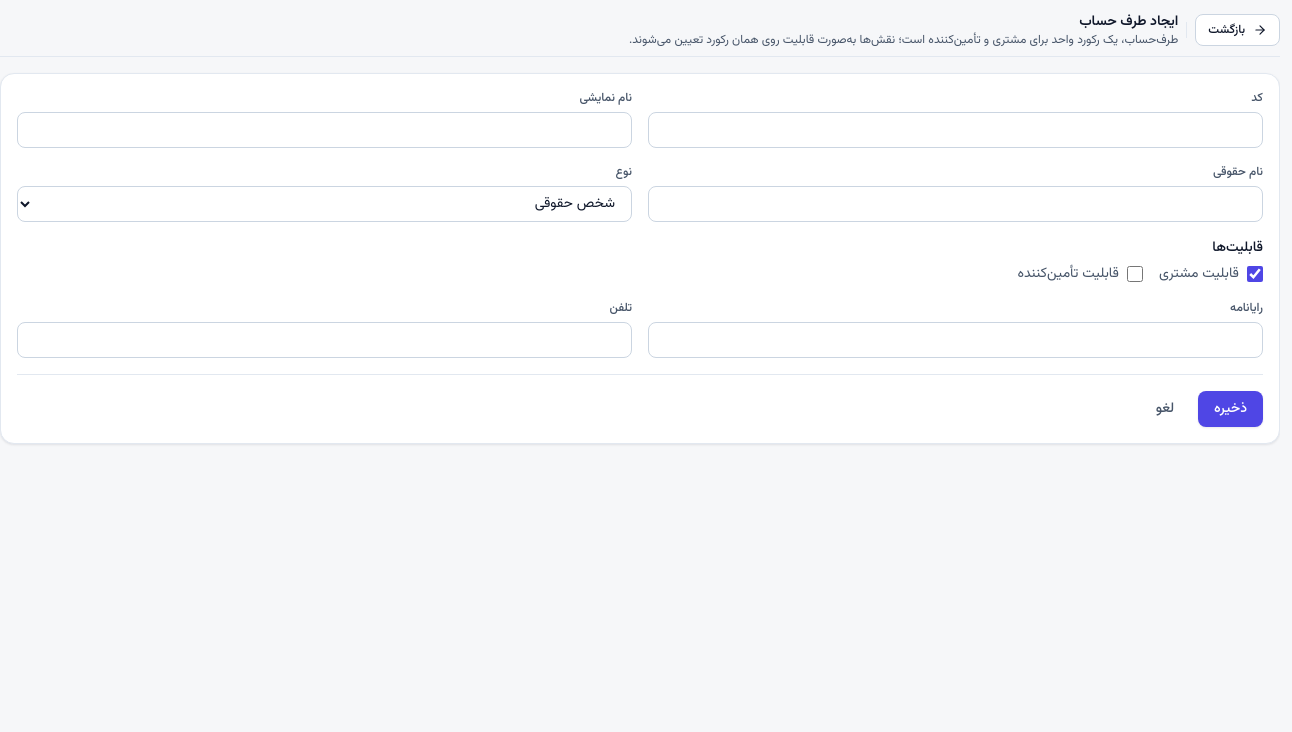
Test: party form › puts a server validation issue on its own control and keeps the summary
This screenshot has width=1292, height=732.
Type "PT-09" into the field labelled "کد" at (956, 130), box [648, 112, 1263, 148]
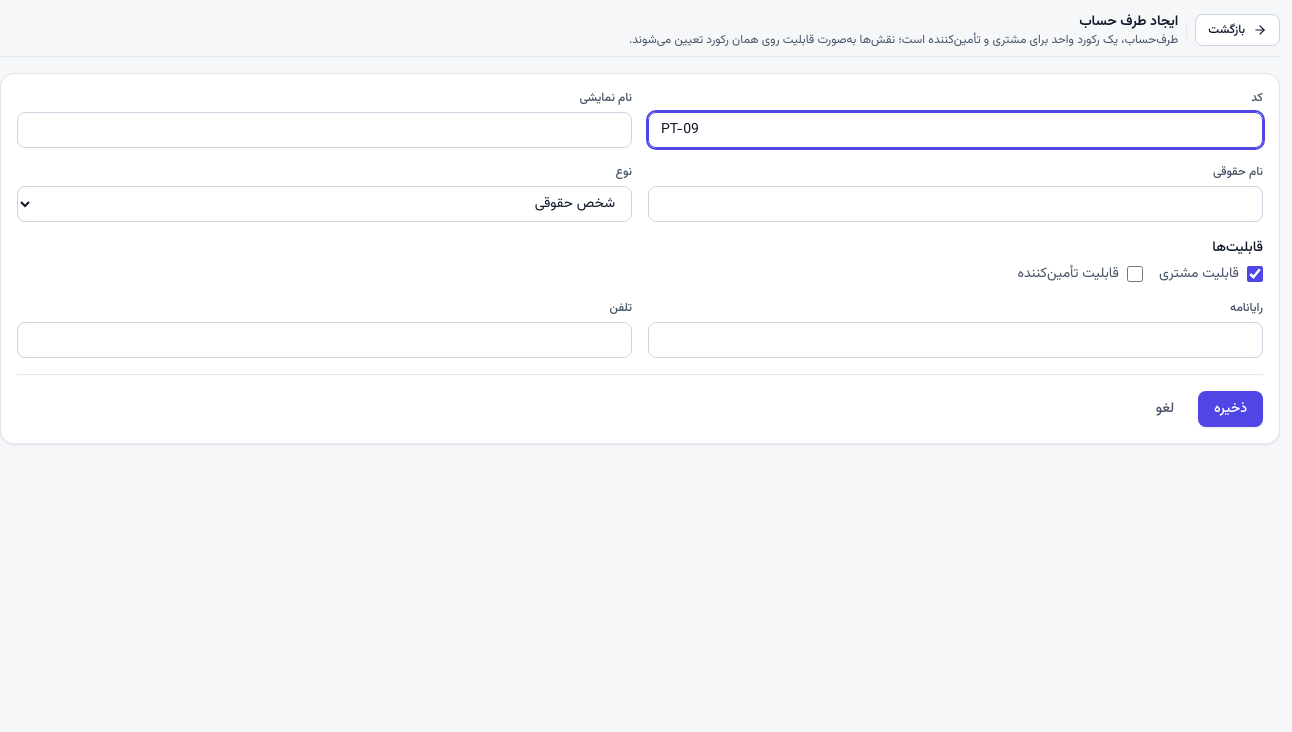
Type "آریا" into the field labelled "نام نمایشی" at (324, 130), box [17, 112, 632, 148]
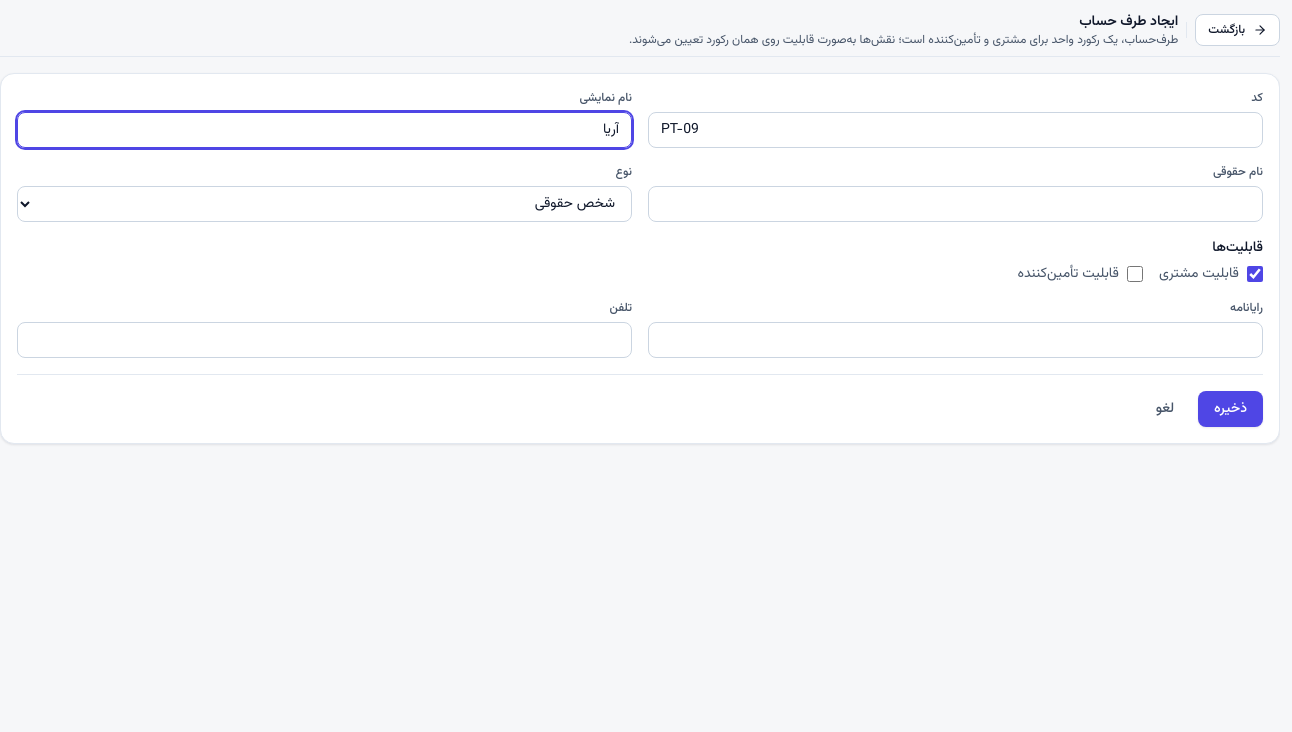
Click the button with test id "party-form-submit" at (1231, 409), box [1198, 391, 1263, 427]
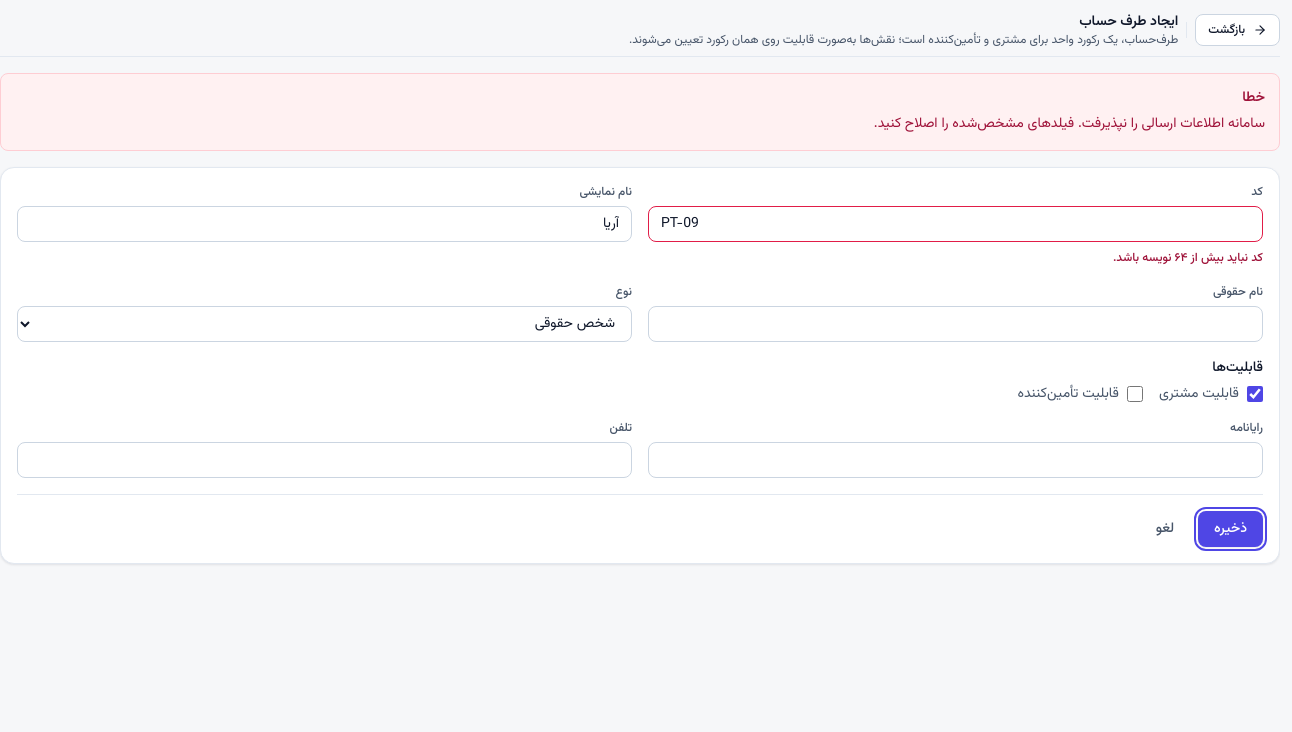
Now the text "کد نباید بیش از ۶۴ نویسه باشد." is shown, box [1113, 249, 1263, 267]
Now the text "سامانه اطلاعات ارسالی را نپذیرفت. فیلدهای مشخص‌شده را اصلاح کنید." is shown, box [874, 113, 1265, 135]
